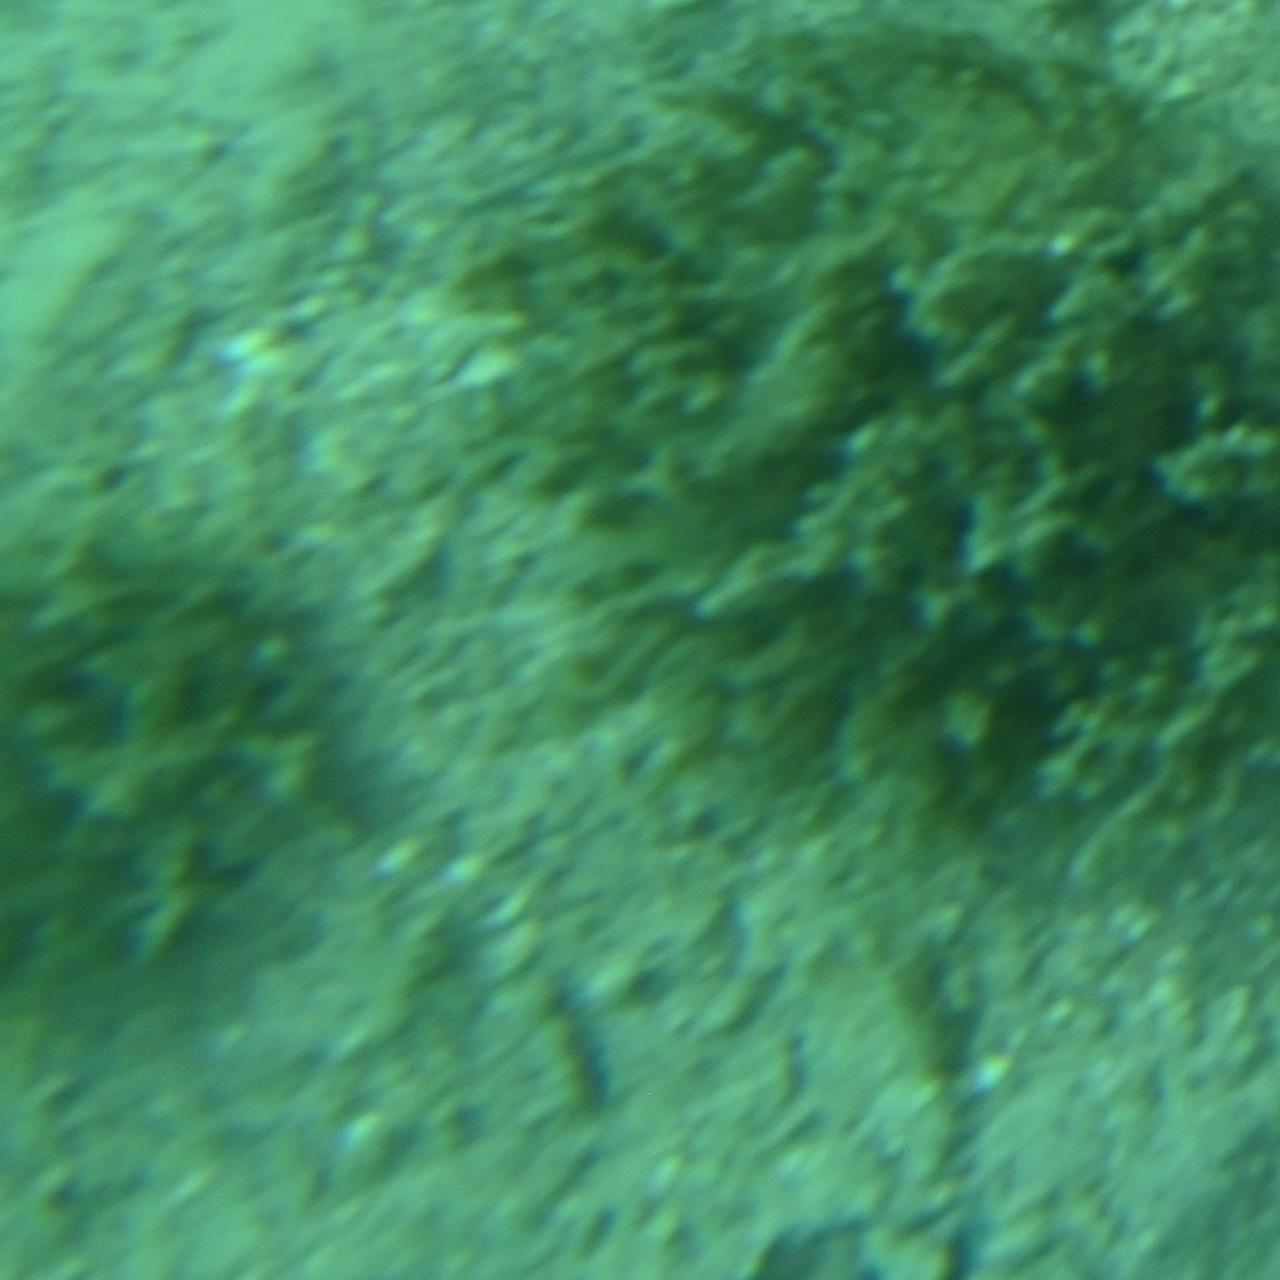Phaeophyceae -cfr Cystoseira-: (486, 12, 1280, 933), (0, 542, 396, 1075)
